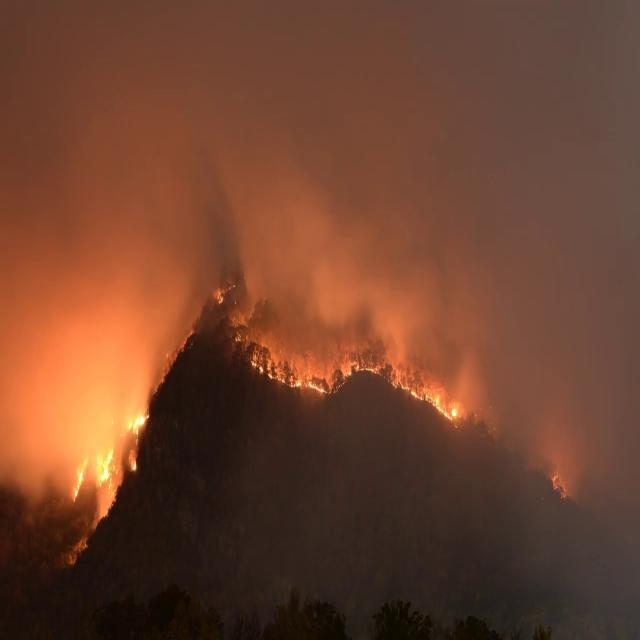Fire: (250, 354, 458, 424), (70, 411, 150, 502)
Smoke: (0, 1, 640, 640)
